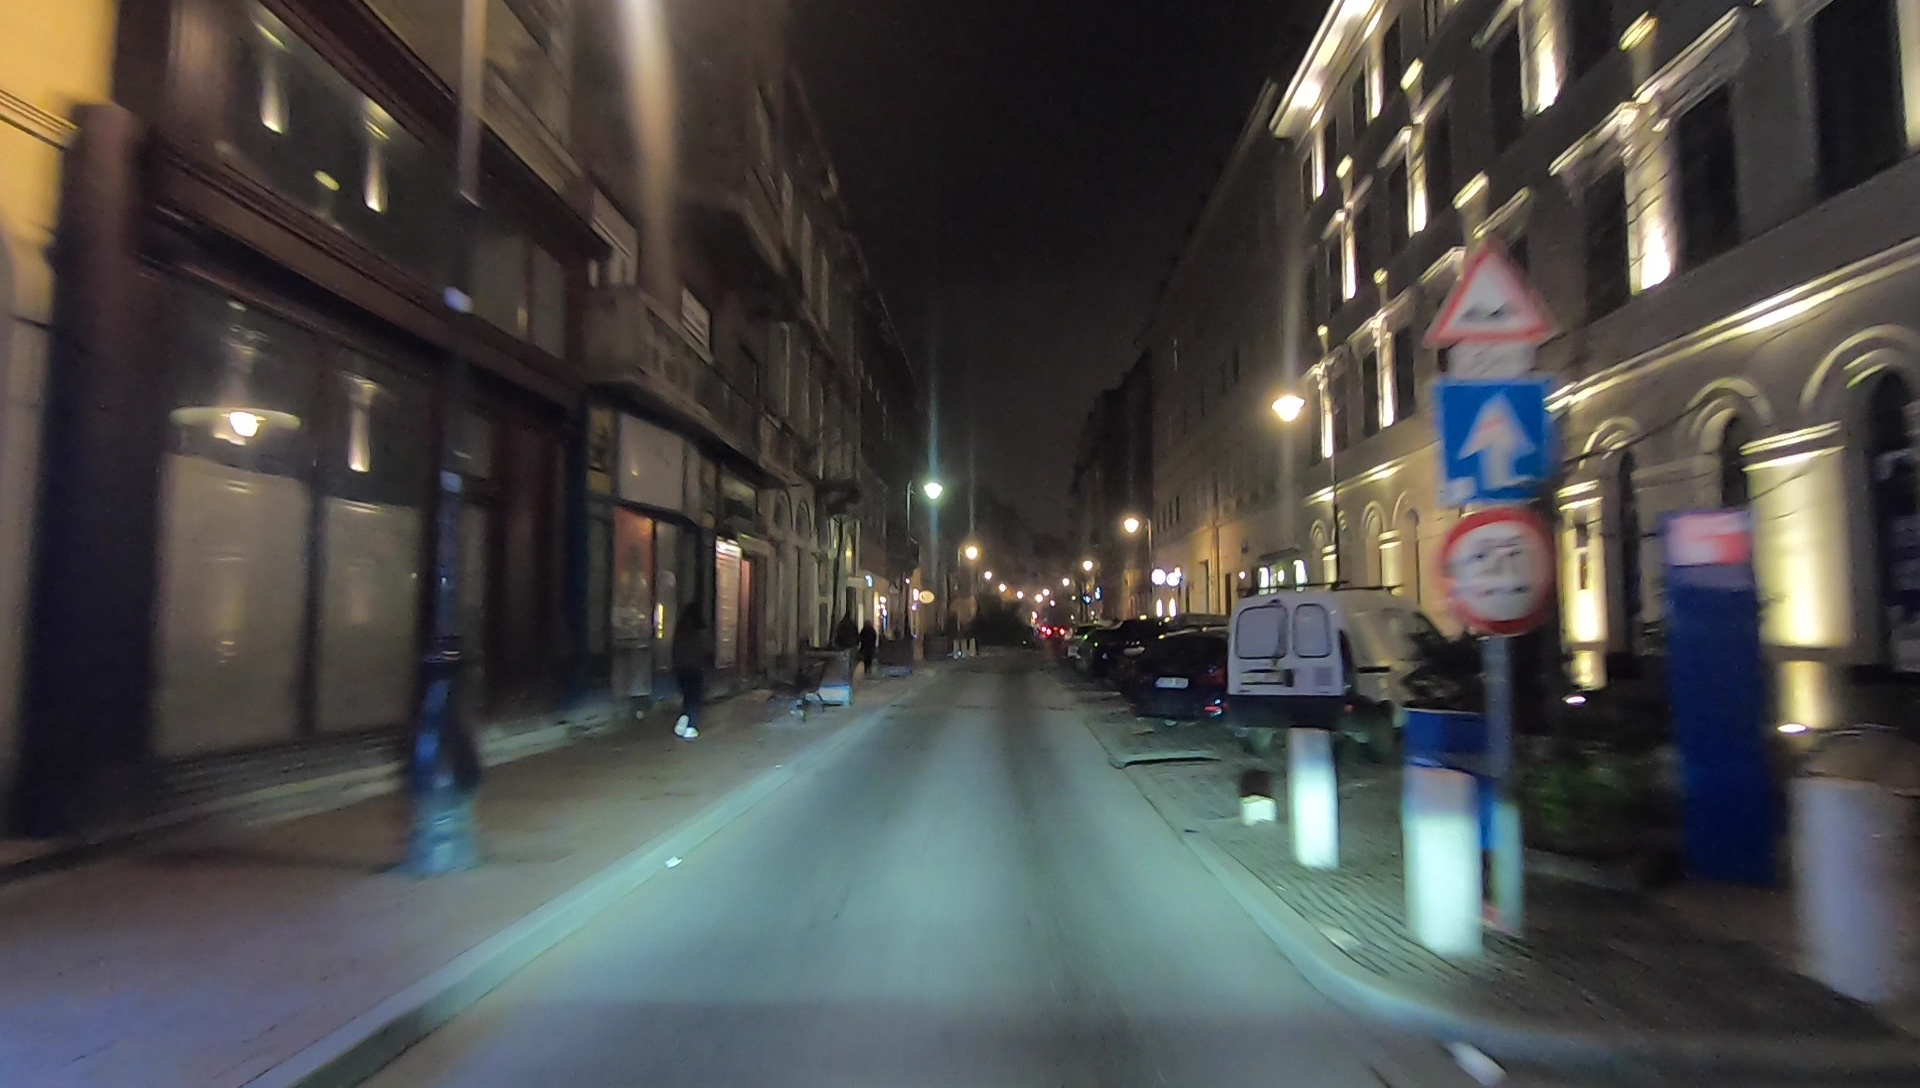person: (665, 604, 708, 739), (838, 609, 857, 685), (859, 613, 880, 678)
